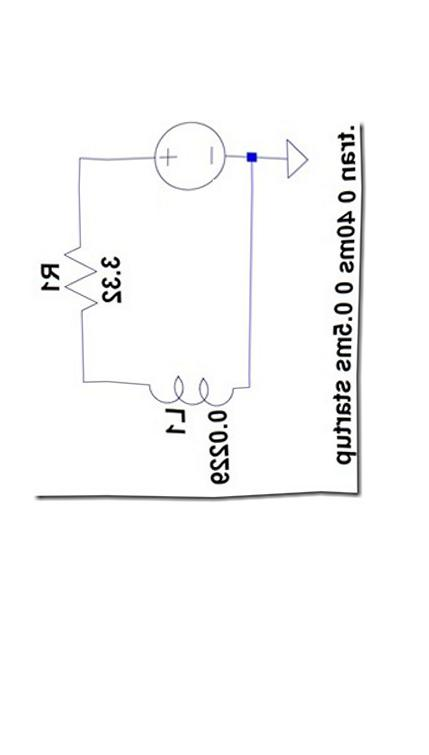Battery: (120, 98, 242, 204)
